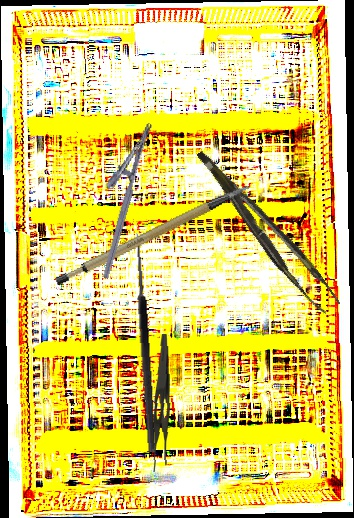Dressing Forceps: (146, 334, 173, 472)
Hook Surgical: (121, 233, 158, 453)
Needle Holder: (81, 116, 154, 279)
Scalpel Handle: (45, 182, 264, 289)
Tissue Forceps: (196, 135, 341, 323)
